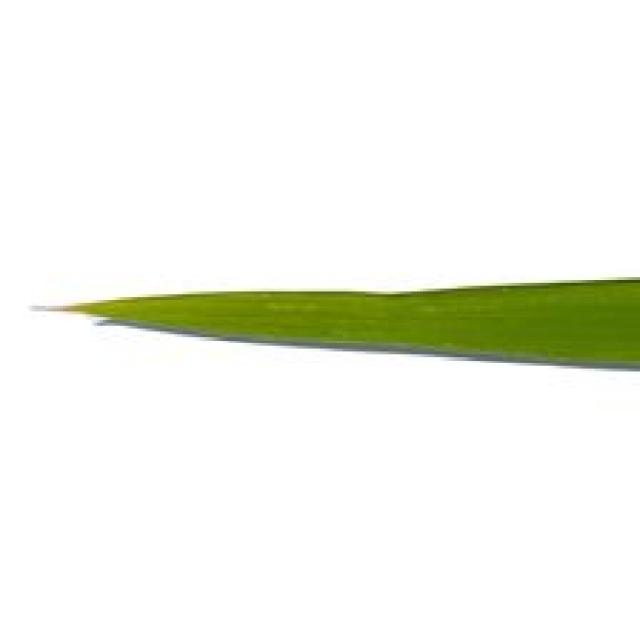Rice___Healthy_Rice_Plant: (37, 280, 637, 373)
